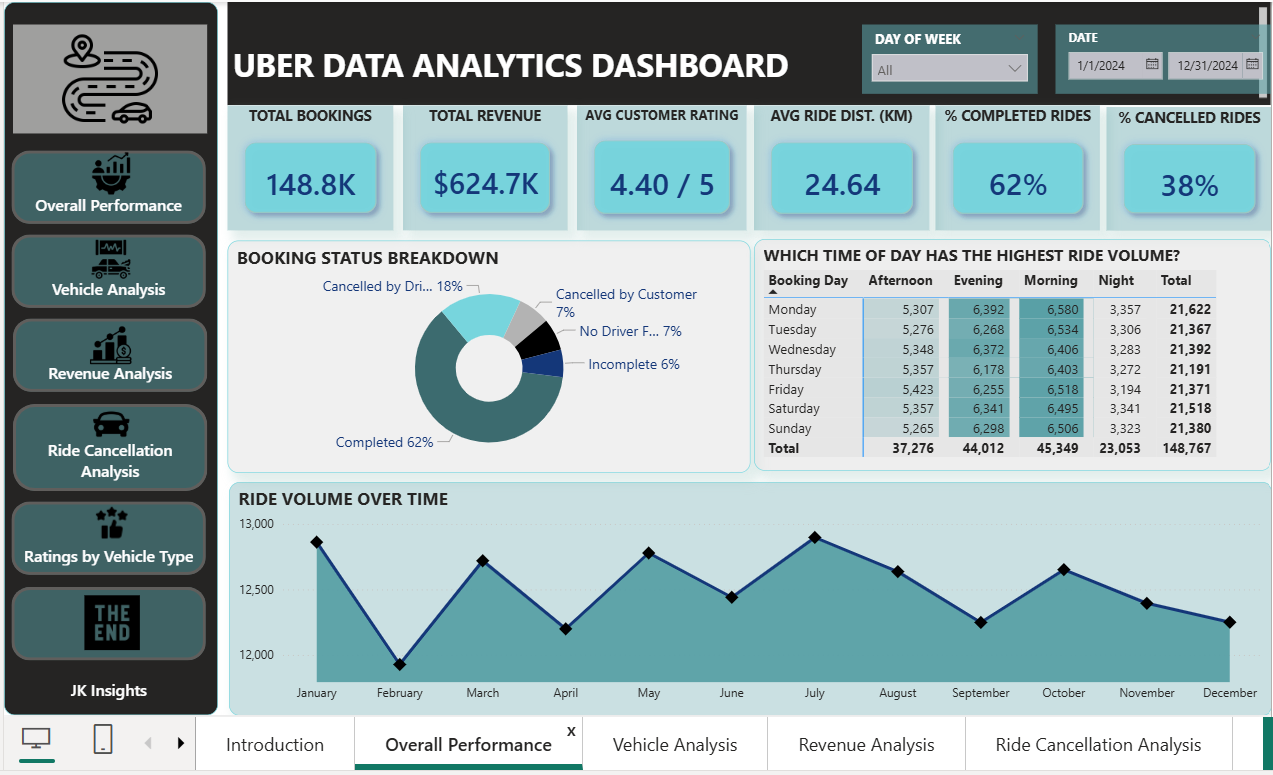

The dashboard page shown, as its layout file describes it:
{"tool":"powerbi","page":{"name":"Overall Performance","canvas":[1280,720],"ordinal":1},"visuals":[{"type":"textbox","box":[0,0,215.7,720],"z":0,"group":"g1"},{"type":"textbox","box":[225.7,0,1054.3,104.3],"z":0},{"type":"cardVisual","title":"TOTAL BOOKINGS","fields":{"Data":["Count(ncr_ride_bookings.Booking ID)"]},"box":[225.7,104.3,167.1,125.7],"z":1000},{"type":"actionButton","box":[8.2,149.3,196.2,74.1],"z":1000,"group":"g1"},{"type":"image","box":[9.6,23.3,196.2,109.8],"z":2000,"group":"g1"},{"type":"slicer","fields":{"Values":["ncr_ride_bookings.Date"]},"box":[1060.7,23.3,219.6,70],"z":2000},{"type":"cardVisual","title":"TOTAL REVENUE","fields":{"Data":["ncr_ride_bookings.Revenue_USD"]},"box":[402.9,104.3,165.7,125.7],"z":3000},{"type":"textbox","box":[61.7,677.9,87.8,32.9],"z":3000,"group":"g1"},{"type":"actionButton","box":[8.2,234.4,196.2,74.1],"z":4000,"group":"g1"},{"type":"areaChart","title":"RIDE VOLUME OVER TIME","fields":{"Category":["ncr_ride_bookings.Date.Variation.Date Hierarchy.Year","ncr_ride_bookings.Date.Variation.Date Hierarchy.Quarter","ncr_ride_bookings.Date.Variation.Date Hierarchy.Month"],"Y":["CountNonNull(ncr_ride_bookings.Booking ID)"]},"box":[226.4,484.4,1053.9,236],"z":4000},{"type":"cardVisual","title":"AVG CUSTOMER RATING","fields":{"Data":["ncr_ride_bookings.Avg Customer Rating Display"]},"box":[579.1,104.3,171.5,126.2],"z":5000},{"type":"actionButton","box":[9.6,319.4,196.2,74.1],"z":5000,"group":"g1"},{"type":"cardVisual","title":"AVG RIDE DIST. (KM)","fields":{"Data":["Avg(ncr_ride_bookings.Ride Distance)"]},"box":[757.5,104.3,177,126.2],"z":6000},{"type":"actionButton","box":[9.6,406.2,196.2,87.8],"z":6000,"group":"g1"},{"type":"cardVisual","title":"% COMPLETED RIDES","fields":{"Data":["ncr_ride_bookings.Completion %"]},"box":[940,104.3,166,126.2],"z":7000},{"type":"actionButton","box":[8.2,590.1,196.2,74.1],"z":7000,"group":"g1"},{"type":"cardVisual","title":"% CANCELLED RIDES","fields":{"Data":["ncr_ride_bookings.Cancellation %"]},"box":[1112.9,105.7,167.4,124.9],"z":8000},{"type":"image","box":[48,145.5,119.4,54.9],"z":8000,"group":"g1"},{"type":"donutChart","title":"BOOKING STATUS BREAKDOWN","fields":{"Y":["CountNonNull(ncr_ride_bookings.Booking Status)"],"Category":["ncr_ride_bookings.Booking Status"]},"box":[225,240.1,528.3,234.6],"z":9000},{"type":"actionButton","box":[8.2,505,196.2,74.1],"z":9000,"group":"g1"},{"type":"slicer","title":"DAY OF THE WEEK","fields":{"Values":["ncr_ride_bookings.Booking Day"]},"box":[865.9,23.3,177,70],"z":10000},{"type":"image","box":[46.7,234.6,122.1,49.4],"z":10000,"group":"g1"},{"type":"pivotTable","title":"WHICH TIME OF DAY HAS THE HIGHEST RIDE VOLUME?","fields":{"Rows":["ncr_ride_bookings.Booking Day"],"Columns":["ncr_ride_bookings.Time of Day"],"Values":["Count(ncr_ride_bookings.Booking ID)"]},"box":[757.1,240,522.9,234.3],"z":11000},{"type":"image","box":[78.2,319.7,57.6,53.5],"z":11000,"group":"g1"},{"type":"image","box":[67.2,403.4,83.7,46.7],"z":12000,"group":"g1"},{"type":"image","box":[61.7,505,93.3,42.5],"z":13000,"group":"g1"},{"type":"image","box":[71.4,594.2,75.5,65.9],"z":14000,"group":"g1"},{"type":"group","id":"g1","title":"Group 1","box":[0,0,215.7,720],"z":15000}]}

Visuals, with their boxes on the page's 1280x720 design canvas (x1, y1, x2, y2). These are canvas units, not pixel positions in the 1273x775 screenshot, which may show the page scaled, cropped or inside an application window:
textbox: BBox(0, 0, 216, 720)
textbox: BBox(226, 0, 1280, 104)
"TOTAL BOOKINGS" cardVisual: BBox(226, 104, 393, 230)
actionButton: BBox(8, 149, 204, 223)
image: BBox(10, 23, 206, 133)
slicer - ncr_ride_bookings.Date: BBox(1061, 23, 1280, 93)
"TOTAL REVENUE" cardVisual: BBox(403, 104, 569, 230)
textbox: BBox(62, 678, 150, 711)
actionButton: BBox(8, 234, 204, 308)
"RIDE VOLUME OVER TIME" areaChart: BBox(226, 484, 1280, 720)
"AVG CUSTOMER RATING" cardVisual: BBox(579, 104, 751, 230)
actionButton: BBox(10, 319, 206, 394)
"AVG RIDE DIST. (KM)" cardVisual: BBox(758, 104, 934, 230)
actionButton: BBox(10, 406, 206, 494)
"% COMPLETED RIDES" cardVisual: BBox(940, 104, 1106, 230)
actionButton: BBox(8, 590, 204, 664)
"% CANCELLED RIDES" cardVisual: BBox(1113, 106, 1280, 231)
image: BBox(48, 146, 167, 200)
"BOOKING STATUS BREAKDOWN" donutChart: BBox(225, 240, 753, 475)
actionButton: BBox(8, 505, 204, 579)
"DAY OF THE WEEK" slicer: BBox(866, 23, 1043, 93)
image: BBox(47, 235, 169, 284)
"WHICH TIME OF DAY HAS THE HIGHEST RIDE VOLUME?" pivotTable: BBox(757, 240, 1280, 474)
image: BBox(78, 320, 136, 373)
image: BBox(67, 403, 151, 450)
image: BBox(62, 505, 155, 548)
image: BBox(71, 594, 147, 660)
"Group 1" group: BBox(0, 0, 216, 720)
